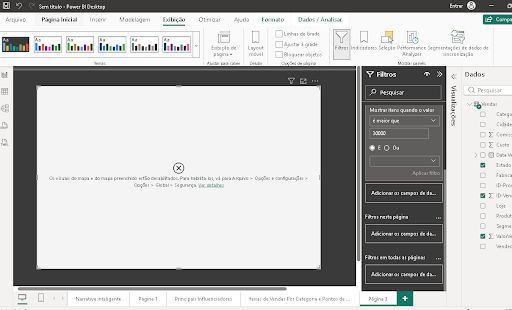

The page's visual inventory and layout, read from the dashboard file:
{"tool":"powerbi","page":{"name":"Total Valor   venda por Estado e Vendedor ","canvas":[1280,720],"ordinal":4},"visuals":[{"type":"map","fields":{"Category":["Vendas.Estado"],"Series":["Vendas.Vendedor"],"Size":["Sum(Vendas.ValorVenda)"]},"box":[75.8,47,1204.2,620.3],"z":0}]}

Visuals, with their boxes on the page's 1280x720 design canvas (x1, y1, x2, y2). These are canvas units, not pixel positions in the 512x310 screenshot, which may show the page scaled, cropped or inside an application window:
map - Vendas.Estado x Vendas.Vendedor: (76,47,1280,667)
